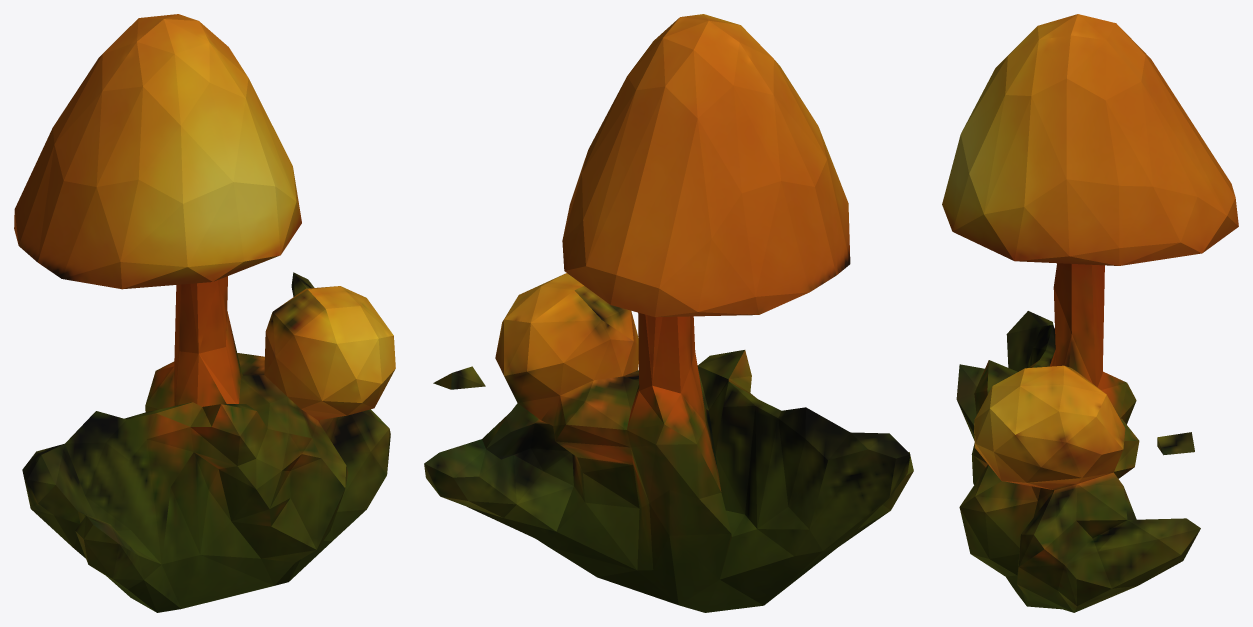
The picture shows the model from 3 angles, left to right: view 1: azimuth 30°, elevation 25°; view 2: azimuth 150°, elevation 25°; view 3: azimuth 270°, elevation 25°; orthographic projection. The views are drawn at different scales.
Visible parts, largest first — view 1: geometry_0.015_Baked; view 2: geometry_0.015_Baked; view 3: geometry_0.015_Baked.
Part boxes in pixels (left/top/right/bottom): geometry_0.015_Baked: left=14, top=14, right=395, bottom=612; geometry_0.015_Baked: left=424, top=14, right=913, bottom=612; geometry_0.015_Baked: left=942, top=14, right=1238, bottom=612.
Size of the model in its own units: 11.45 by 16.16 by 7.95.
